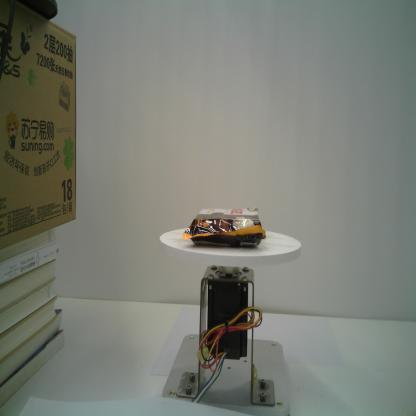Dessert: (181, 206, 267, 250)
